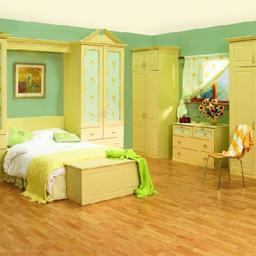Armario: (80, 42, 123, 147), (135, 49, 170, 156), (67, 158, 150, 201), (230, 38, 254, 176)
Cama: (5, 117, 112, 195)
Ventana: (184, 60, 230, 105)
